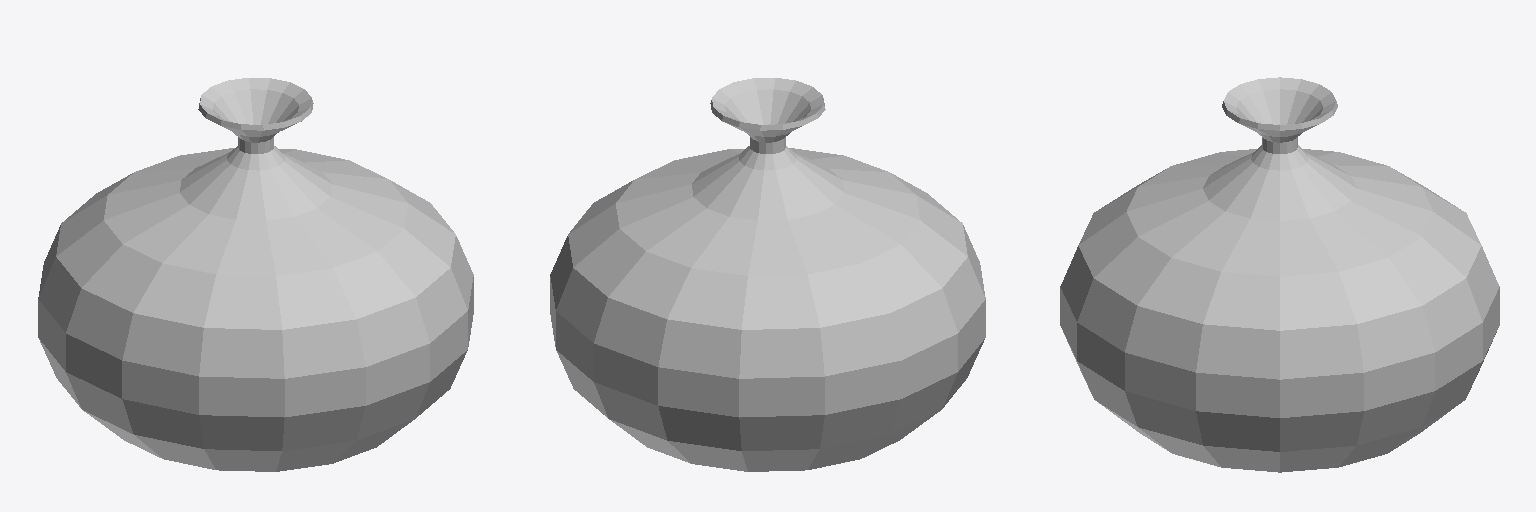
File: sack.obj
3 views of the same model, side by side, from view 1: azimuth 30°, elevation 25°; view 2: azimuth 150°, elevation 25°; view 3: azimuth 270°, elevation 25° (orthographic).
Parts seen in each view (by area): view 1: Cylinder; view 2: Cylinder; view 3: Cylinder.
Boxes of the visible parts, x1,y1,x2,y2 form: Cylinder: [38, 78, 473, 471]; Cylinder: [550, 78, 985, 471]; Cylinder: [1060, 77, 1499, 472].
Size of the model in its own units: 2 by 1.55 by 2.